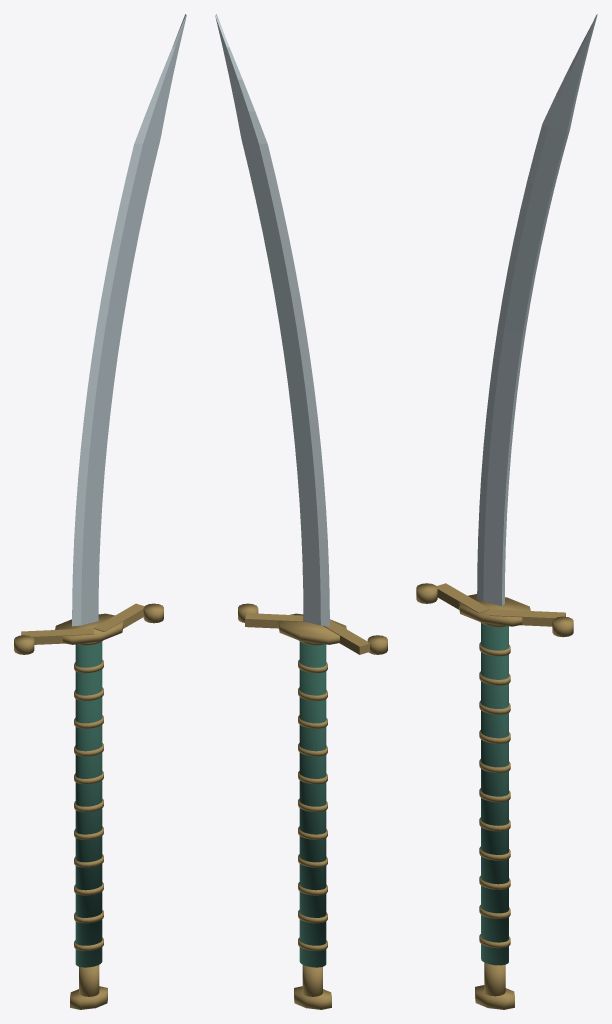
Rendered from nodachi-capstone.fbx.
3 views of the same model, side by side, from view 1: azimuth 30°, elevation 25°; view 2: azimuth 150°, elevation 25°; view 3: azimuth 330°, elevation 25° (orthographic). The views are drawn at different scales.
Parts seen in each view (by area): view 1: NodachiCapstoneBlade, NodachiCapstoneHandle, NodachiCapstoneGuardCore, NodachiCapstoneGuardWing-1, NodachiCapstoneGuardWing1, NodachiCapstonePommelNeck, NodachiCapstonePommelCrown; view 2: NodachiCapstoneBlade, NodachiCapstoneHandle, NodachiCapstoneGuardCore, NodachiCapstoneGuardWing1, NodachiCapstoneGuardWing-1, NodachiCapstonePommelNeck, NodachiCapstonePommelCrown; view 3: NodachiCapstoneBlade, NodachiCapstoneHandle, NodachiCapstoneGuardCore, NodachiCapstoneGuardWing1, NodachiCapstoneGuardWing-1, NodachiCapstonePommelNeck, NodachiCapstonePommelCrown.
Part boxes in pixels (x1,y1,x2,y2): NodachiCapstoneBlade: (72,14,186,626); NodachiCapstoneHandle: (75,641,102,967); NodachiCapstoneGuardCore: (55,613,123,644); NodachiCapstoneGuardWing-1: (21,628,94,644); NodachiCapstoneGuardWing1: (93,603,144,631); NodachiCapstonePommelNeck: (79,965,99,996); NodachiCapstonePommelCrown: (70,986,107,1009); NodachiCapstoneBlade: (215,14,329,626); NodachiCapstoneHandle: (299,641,326,967); NodachiCapstoneGuardCore: (278,613,346,644); NodachiCapstoneGuardWing1: (245,613,306,628); NodachiCapstoneGuardWing-1: (323,620,369,654); NodachiCapstonePommelNeck: (302,965,322,996); NodachiCapstonePommelCrown: (294,986,331,1009); NodachiCapstoneBlade: (477,14,597,605); NodachiCapstoneHandle: (481,623,508,965); NodachiCapstoneGuardCore: (459,594,530,626); NodachiCapstoneGuardWing1: (489,609,565,626); NodachiCapstoneGuardWing-1: (436,583,490,613); NodachiCapstonePommelNeck: (484,962,505,996); NodachiCapstonePommelCrown: (475,985,514,1009).
Size of the model in its own units: 0.3054 by 1.65 by 0.0729.
